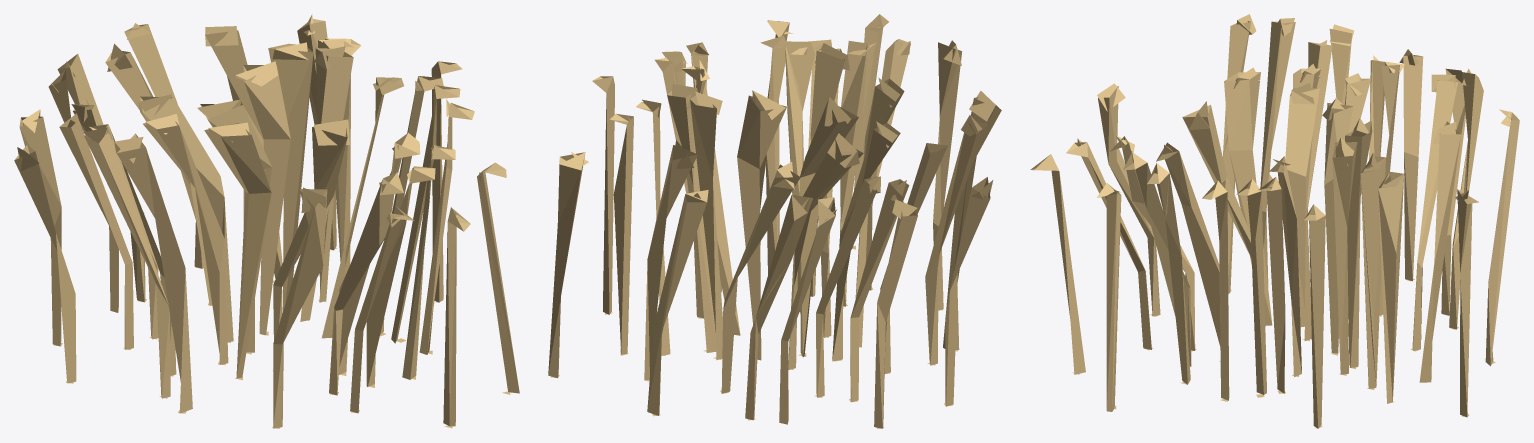
Rendered from Wheat.fbx.
3 renders of one model, left to right at view 1: azimuth 30°, elevation 25°; view 2: azimuth 150°, elevation 25°; view 3: azimuth 270°, elevation 25°, orthographic. The views are drawn at different scales.
Parts seen in each view (by area): view 1: Vert; view 2: Vert; view 3: Vert.
Part boxes in pixels (x1,y1,x2,y2): Vert: (14, 14, 519, 428); Vert: (548, 14, 1001, 428); Vert: (1030, 14, 1519, 428).
Size of the model in its own units: 71.39 by 44.68 by 77.68.
